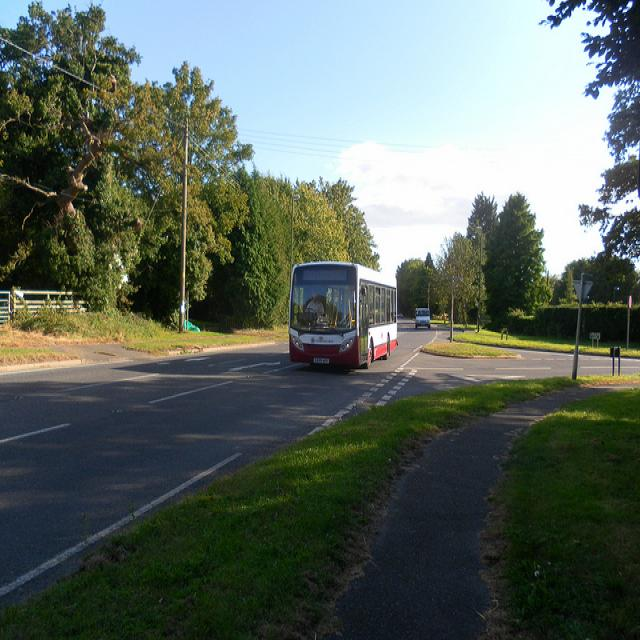Vehicle: (287, 261, 399, 370), (415, 308, 431, 330), (415, 308, 430, 329), (398, 313, 403, 319)
